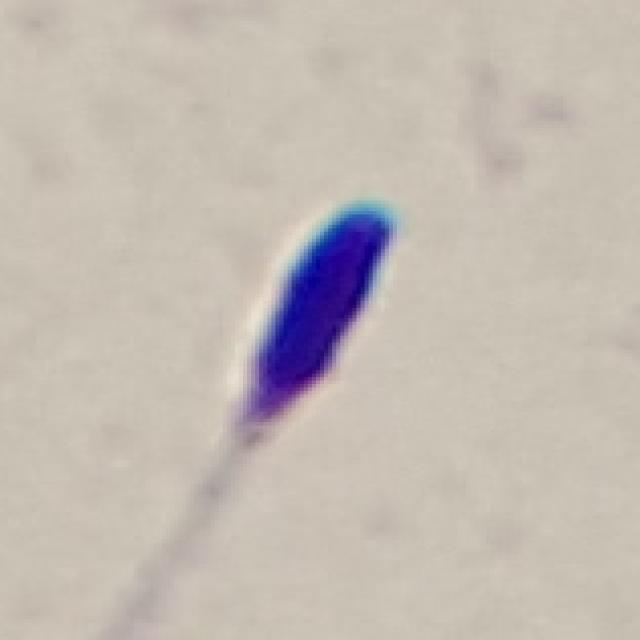abnormal sperm: (182, 202, 400, 536)
